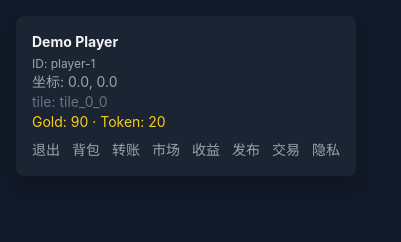
Scenario: PlayerHUD inventory › shows creator marketplace templates for purchase
Click the button "市场" at (166, 150), box [152, 140, 180, 160]
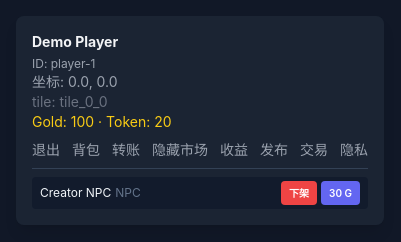
Result: the text "Creator NPC" is shown at [40, 185, 111, 200]
Result: the button "30 G" is shown at [321, 181, 360, 205]
